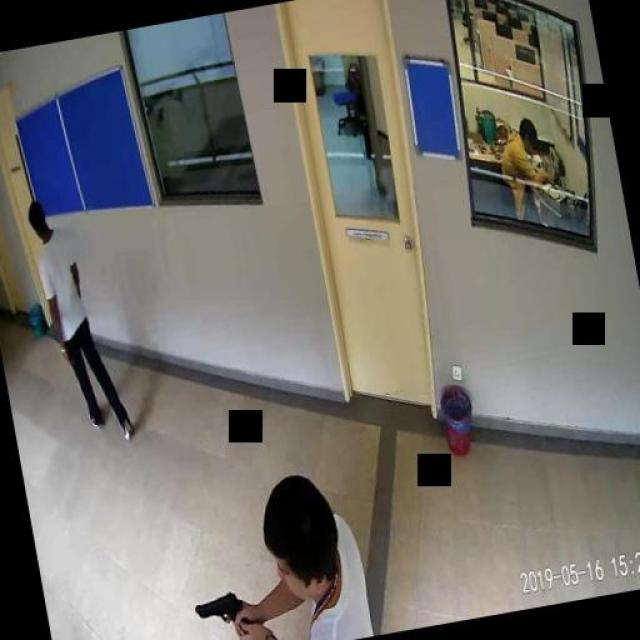gun: (191, 587, 246, 640)
